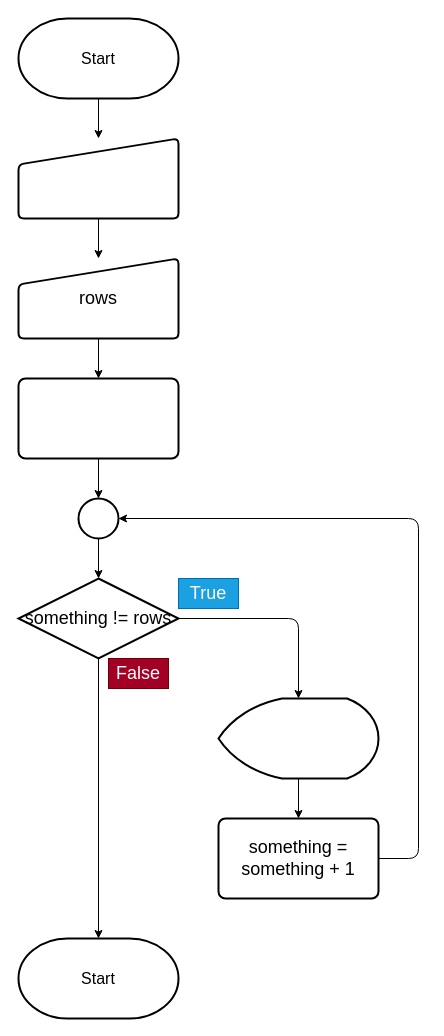
Image size: 444x1036. Some labels were removed from this diagram. The shapes that lost their labels are listed below. From the top down, each one's centre as x and y in pixels, then its label:
[98,178]: column
[98,418]: something = 0
[298,738]: "*" * column
